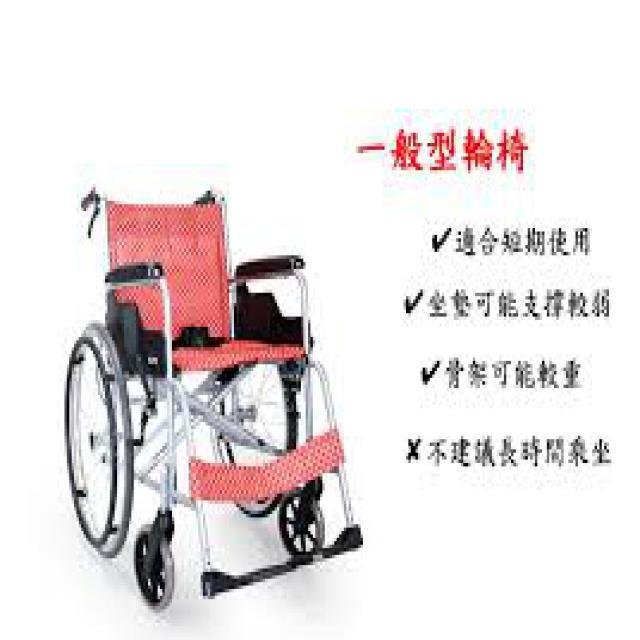wheelchair: (33, 167, 370, 623)
